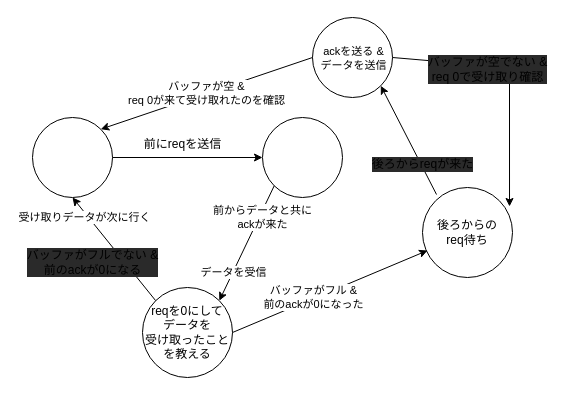
The diagram is 569 pixels wide and 395 high, and some of its shapes have lost their labels. The shapes that lost their labels are listed below. From the top down, each one's centre as x and y in pixels, then its label:
At pixel 72 157: "初期状態".
At pixel 302 157: "前からの ack待ち".
